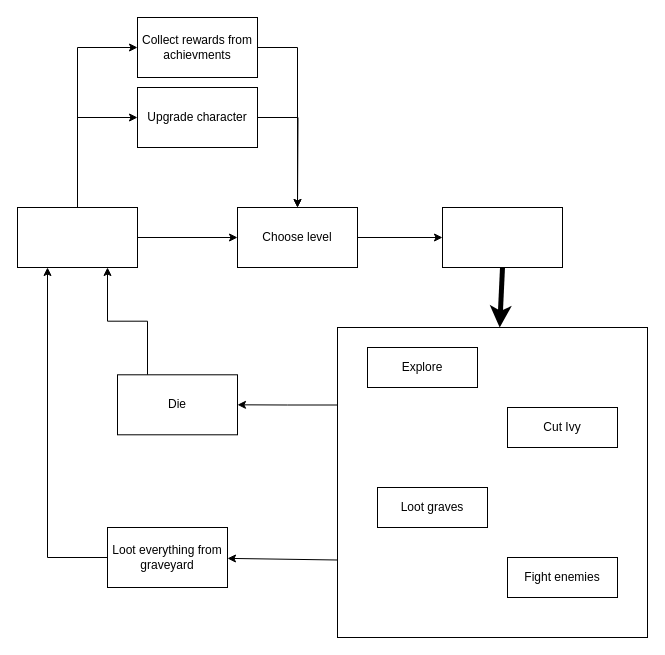
Image size: 665x655. Some labels were removed from this diagram. Here are the shapes that lost their labels. From the top down, the box of each, then its label:
(16, 206, 138, 268): End Level
(442, 206, 562, 268): Start Level
